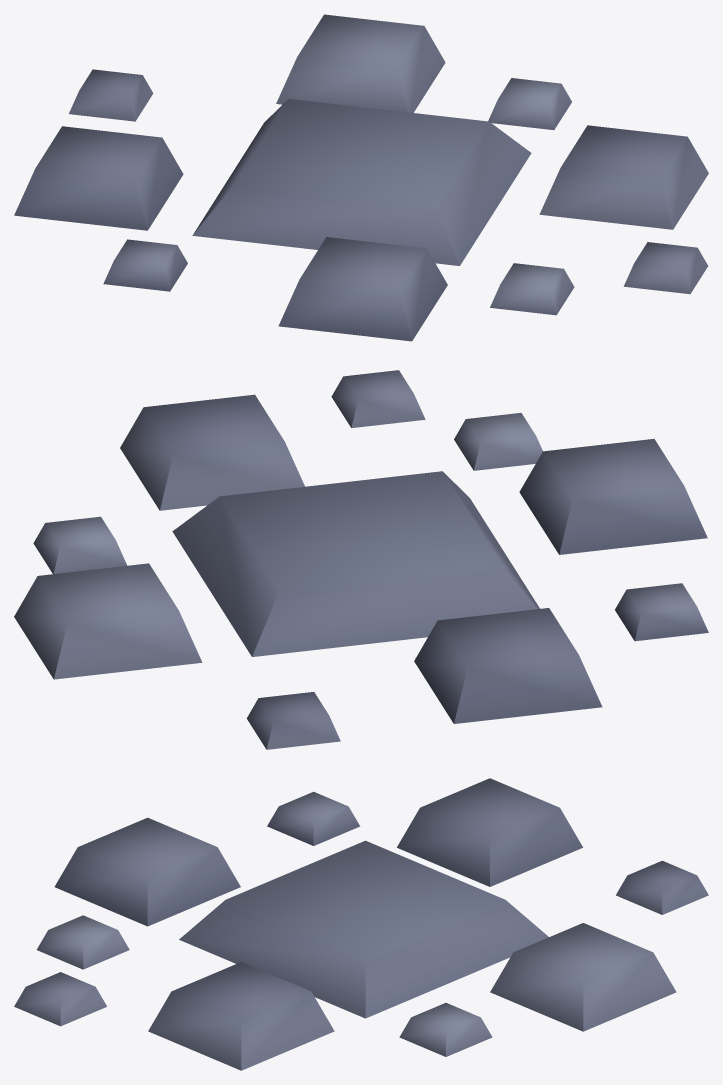
The model's file is kenney-platformer-stones.glb.
The picture shows the model from 3 angles, top to bottom: view 1: azimuth 30°, elevation 25°; view 2: azimuth 150°, elevation 25°; view 3: azimuth 270°, elevation 25°; orthographic projection. The views are drawn at different scales.
Visible parts, largest first — view 1: stones; view 2: stones; view 3: stones.
Boxes of the visible parts, x1,y1,x2,y2 form: stones: [14, 14, 708, 341]; stones: [14, 370, 708, 749]; stones: [14, 778, 708, 1070].
Size of the model in its own units: 0.7101 by 0.05 by 0.7897.
Materials: 1 (1 with a texture image).
